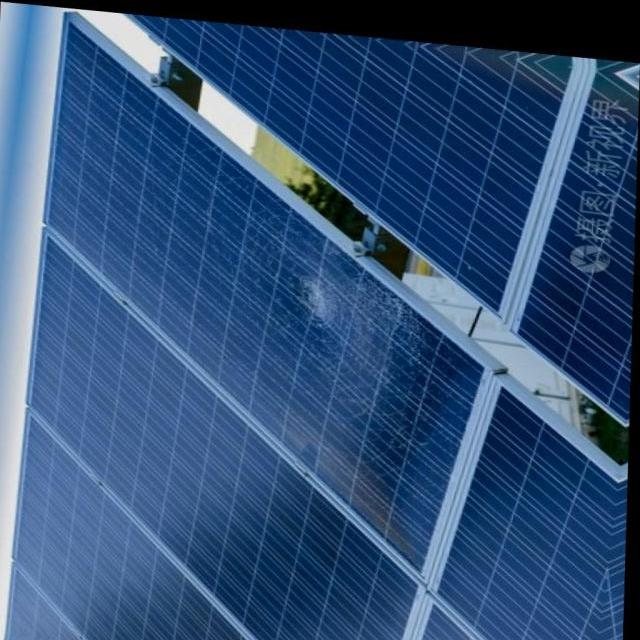cracked: (42, 29, 484, 567)
